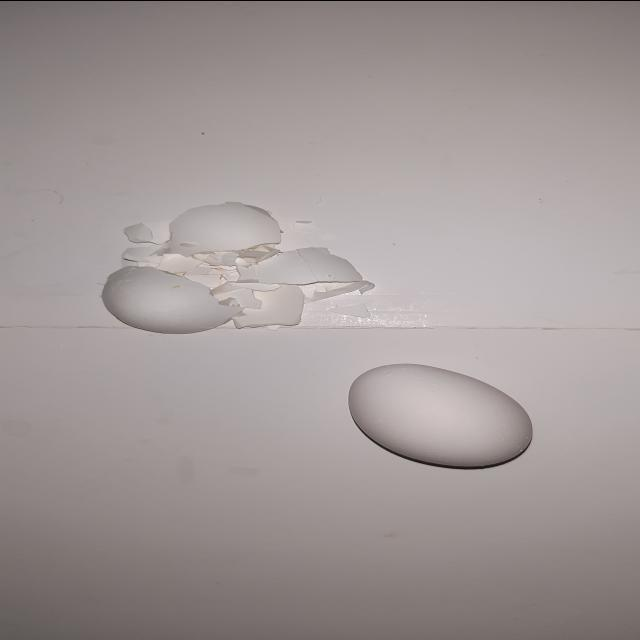egg shell: (344, 360, 538, 469), (103, 259, 235, 341), (163, 198, 283, 259), (226, 242, 376, 281), (213, 283, 313, 329)
